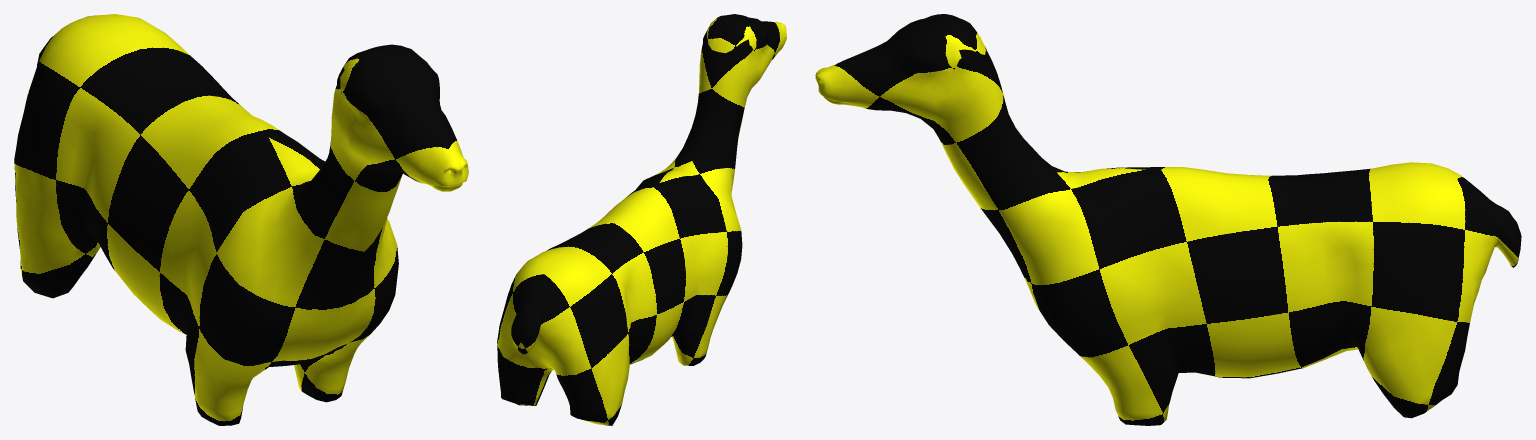
File: deer_hitbox.obj
3 renders of one model, left to right at view 1: azimuth 30°, elevation 25°; view 2: azimuth 150°, elevation 25°; view 3: azimuth 270°, elevation 25°, orthographic. The views are drawn at different scales.
Visible parts, largest first — view 1: deer_retopo_Group3; view 2: deer_retopo_Group3; view 3: deer_retopo_Group3.
Part boxes in pixels (x1,y1,x2,y2): deer_retopo_Group3: (14,14,468,425); deer_retopo_Group3: (497,14,786,425); deer_retopo_Group3: (815,14,1521,425).
Bounding box in the file's own units: 8.64 × 20.39 × 34.44.
Materials: 1 (1 with a texture image).
